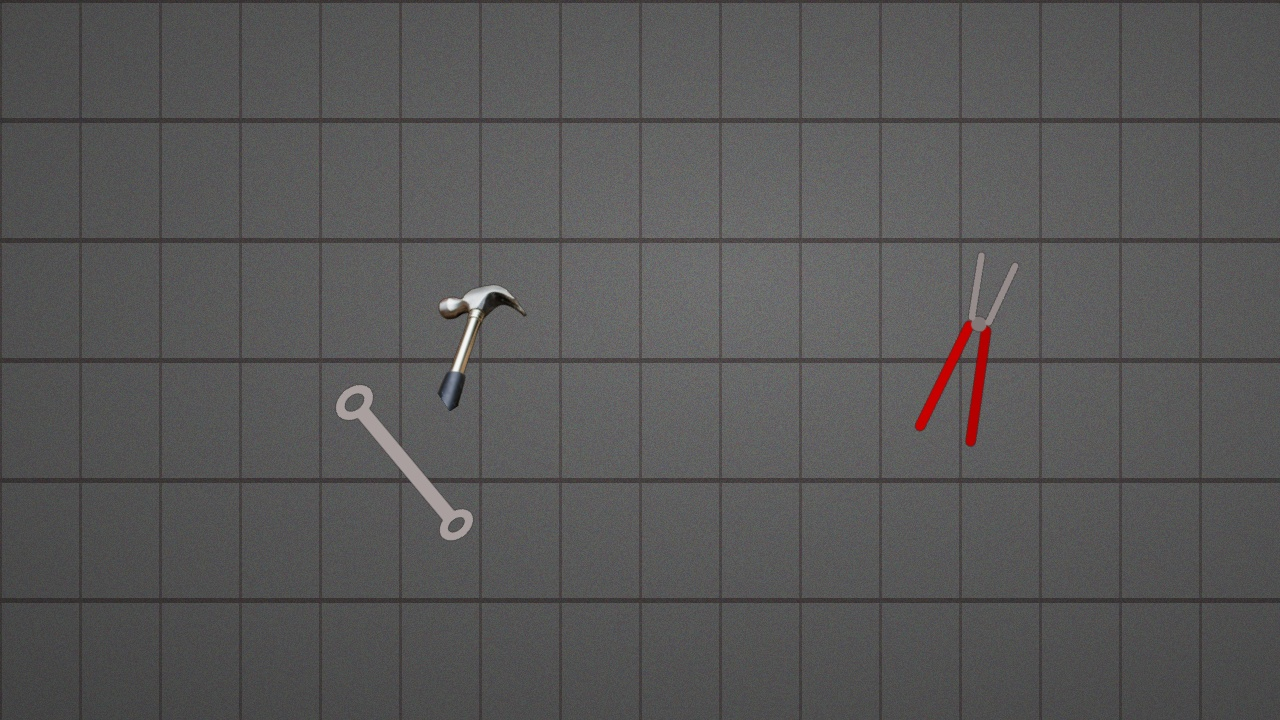hammer: (435, 282, 528, 412)
pliers: (912, 249, 1020, 448)
wrench: (333, 382, 475, 542)
